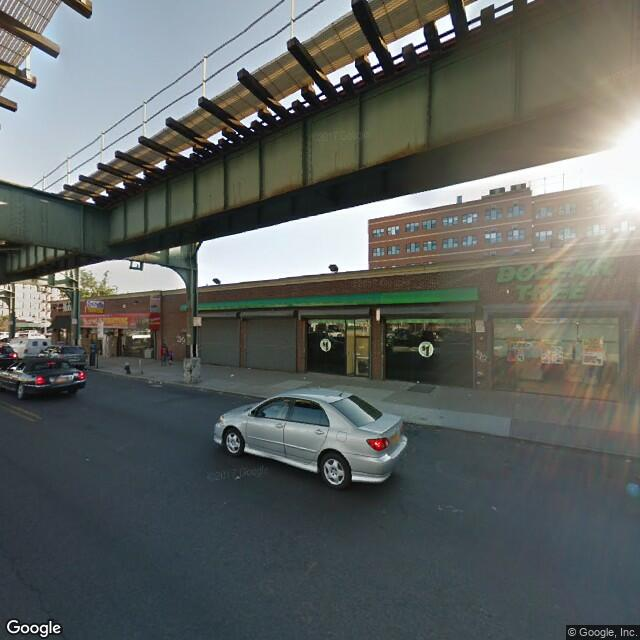litter: (221, 374, 239, 378)
